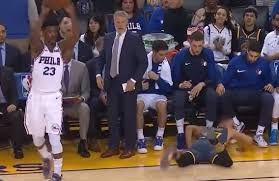10+: (1, 1, 278, 180)
down: (157, 109, 258, 174)
